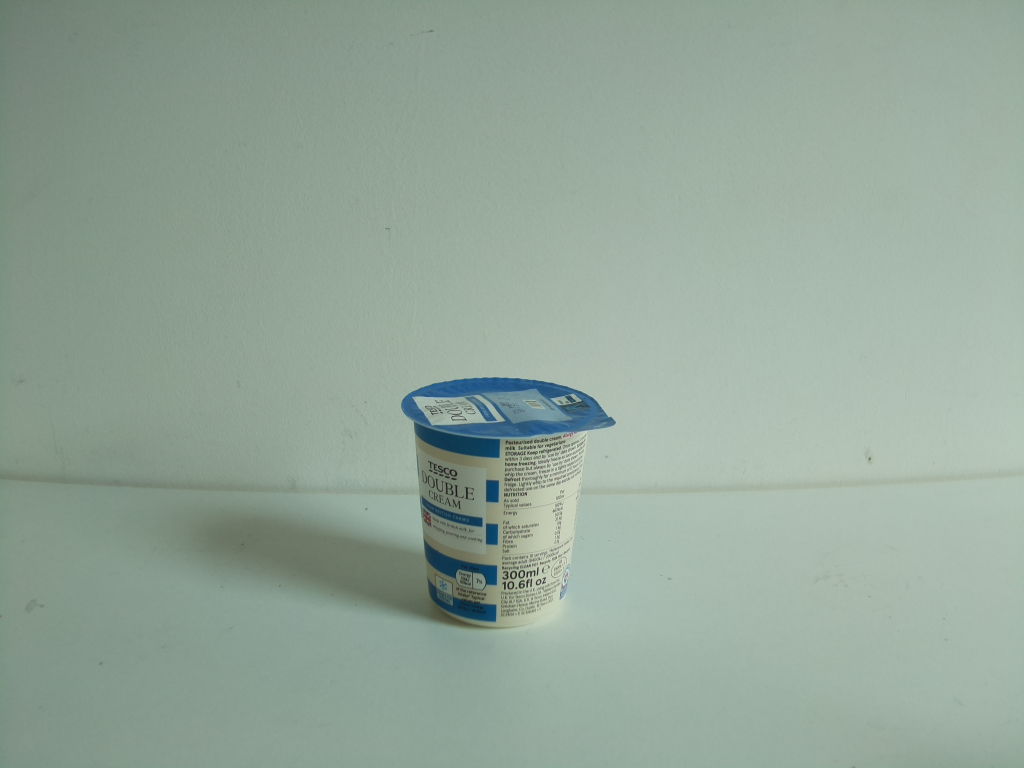cream: (401, 375, 615, 628)
